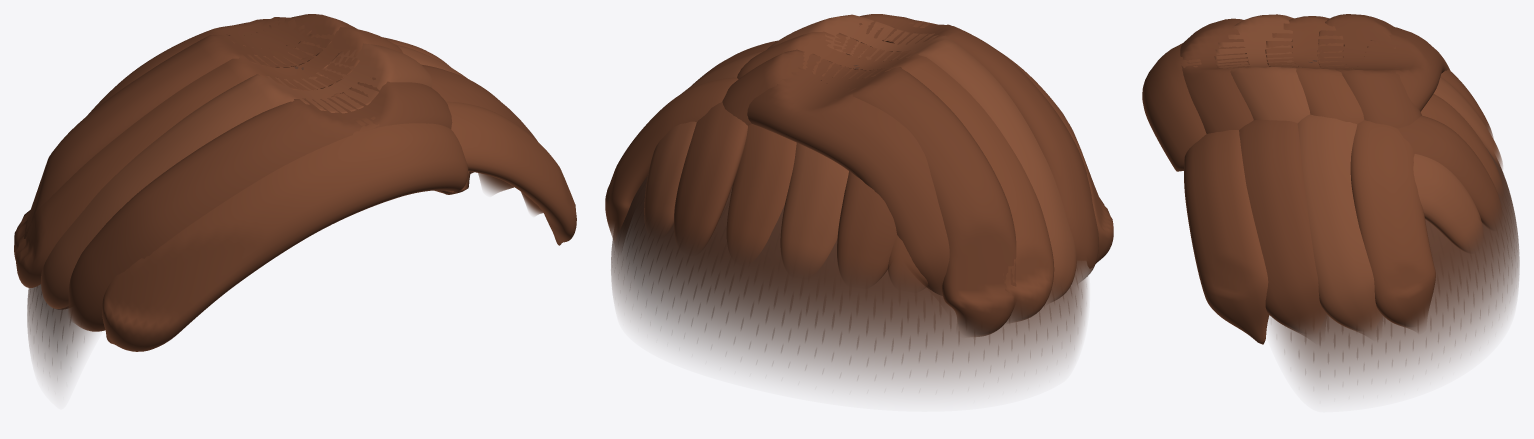
Rendered from Masculine-taper-cowboy258-hair.glb.
3 renders of one model, left to right at view 1: azimuth 30°, elevation 25°; view 2: azimuth 150°, elevation 25°; view 3: azimuth 270°, elevation 25°, orthographic. The views are drawn at different scales.
Visible parts, largest first — view 1: 226 hair / Hair258 / sculpted side sweep 1, 226 hair / Hair258 / sculpted side sweep 0, 226 hair / Hair258 / sculpted side sweep 2, 226 hair / Hair258 / smooth side fade; view 2: 226 hair / Hair258 / sculpted side sweep 0, 226 hair / Hair258 / smooth side fade, 226 hair / Hair258 / sculpted side sweep 1, 226 hair / Hair258 / sculpted side sweep 2, 226 hair / Hair258 / directional fade marks; view 3: 226 hair / Hair258 / sculpted side sweep 1, 226 hair / Hair258 / sculpted side sweep 0, 226 hair / Hair258 / sculpted side sweep 2, 226 hair / Hair258 / smooth side fade, 226 hair / Hair258 / directional fade marks.
Part boxes in pixels (x1,y1,x2,y2): 226 hair / Hair258 / sculpted side sweep 1: [16, 27, 576, 351]; 226 hair / Hair258 / sculpted side sweep 0: [14, 14, 543, 331]; 226 hair / Hair258 / sculpted side sweep 2: [41, 43, 513, 308]; 226 hair / Hair258 / smooth side fade: [27, 66, 303, 387]; 226 hair / Hair258 / sculpted side sweep 0: [674, 14, 1098, 336]; 226 hair / Hair258 / smooth side fade: [611, 65, 1087, 392]; 226 hair / Hair258 / sculpted side sweep 1: [605, 20, 1113, 322]; 226 hair / Hair258 / sculpted side sweep 2: [644, 14, 1076, 302]; 226 hair / Hair258 / directional fade marks: [622, 177, 1082, 366]; 226 hair / Hair258 / sculpted side sweep 1: [1142, 16, 1503, 344]; 226 hair / Hair258 / sculpted side sweep 0: [1180, 14, 1502, 334]; 226 hair / Hair258 / sculpted side sweep 2: [1214, 14, 1502, 331]; 226 hair / Hair258 / smooth side fade: [1268, 60, 1519, 393]; 226 hair / Hair258 / directional fade marks: [1291, 148, 1514, 375].
Size of the model in its own units: 0.9754 by 0.6218 by 0.7505.
